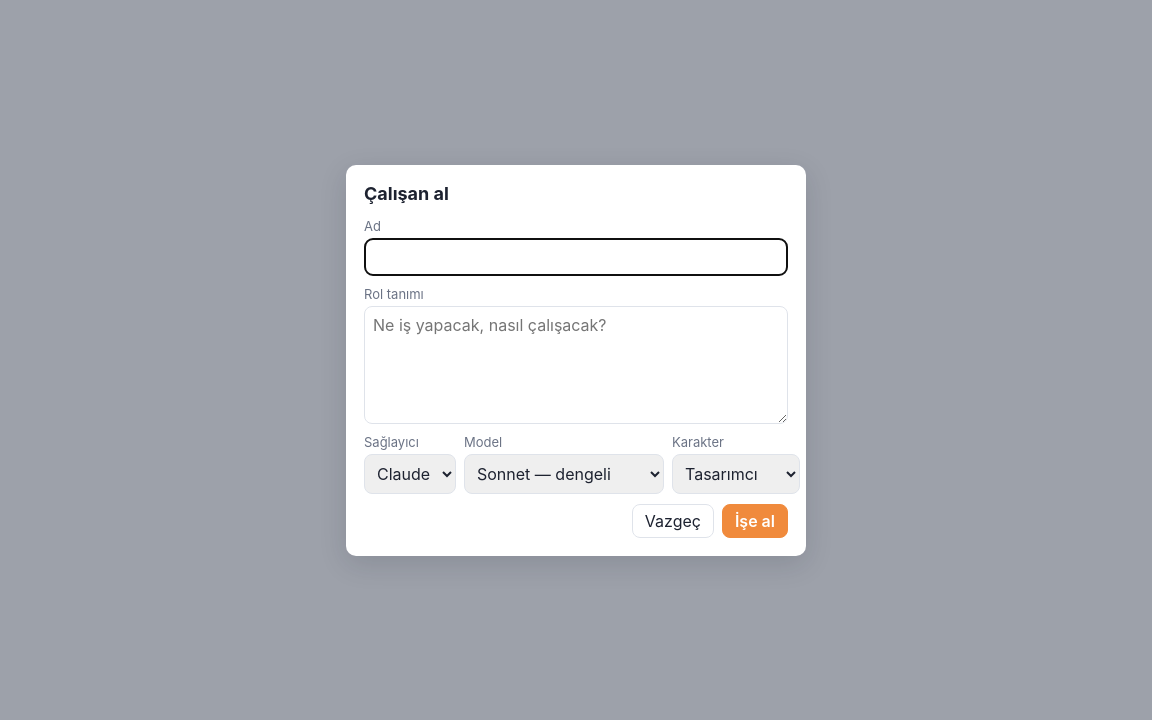
Scenario: HireDialog › keeps the dialog open and shows why when hiring fails
Step 1. Type "Ece" into the field labelled "Ad" → [576, 256], box [364,238,788,276]
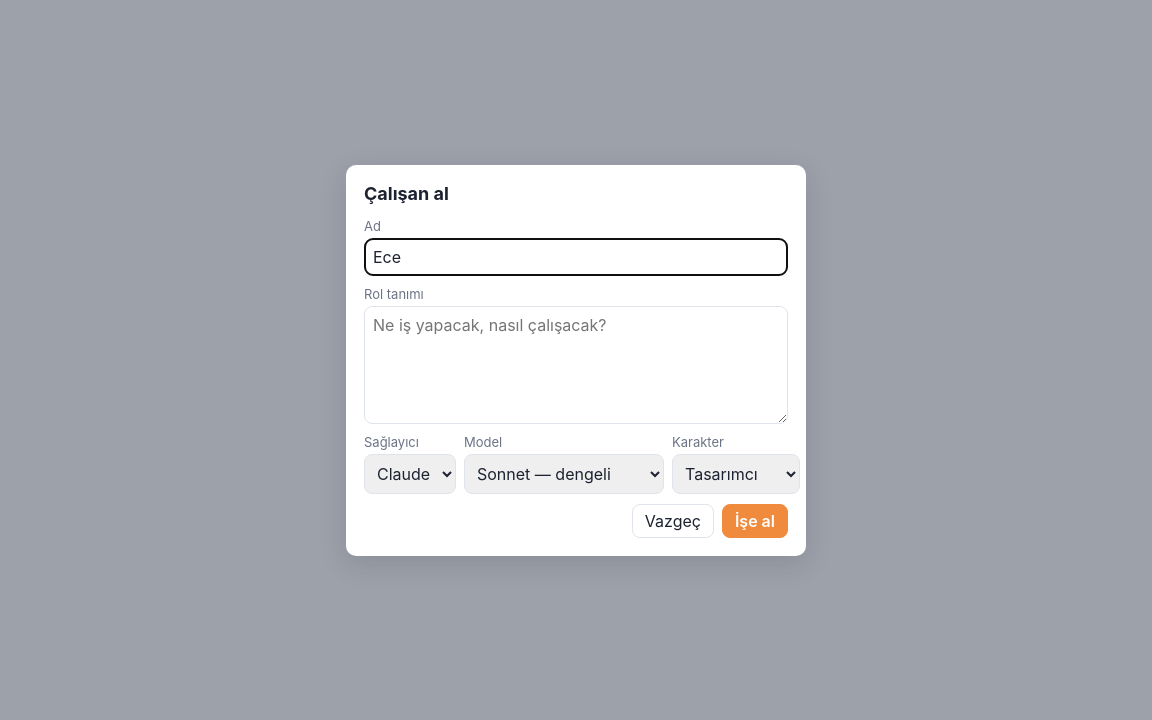
Step 2. Type "r" into the text box labelled "Rol tanımı" → [576, 364], box [364,306,788,424]
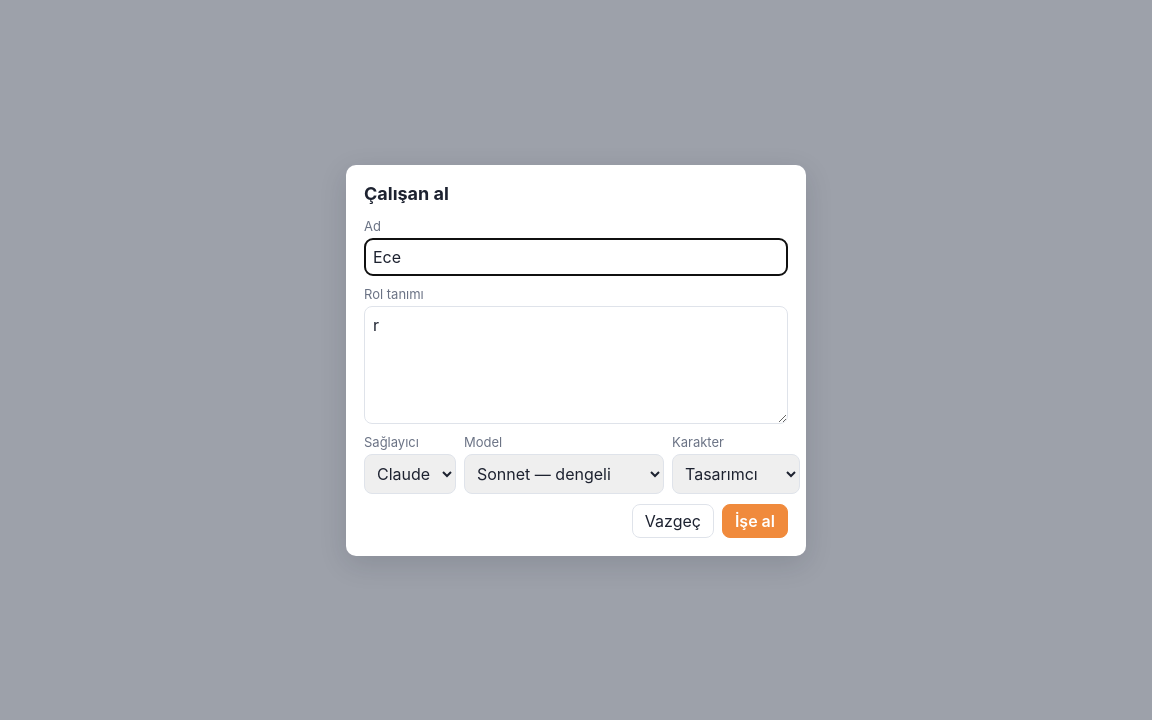
Step 3. Click the button "İşe al" → [755, 520], box [722,504,788,538]
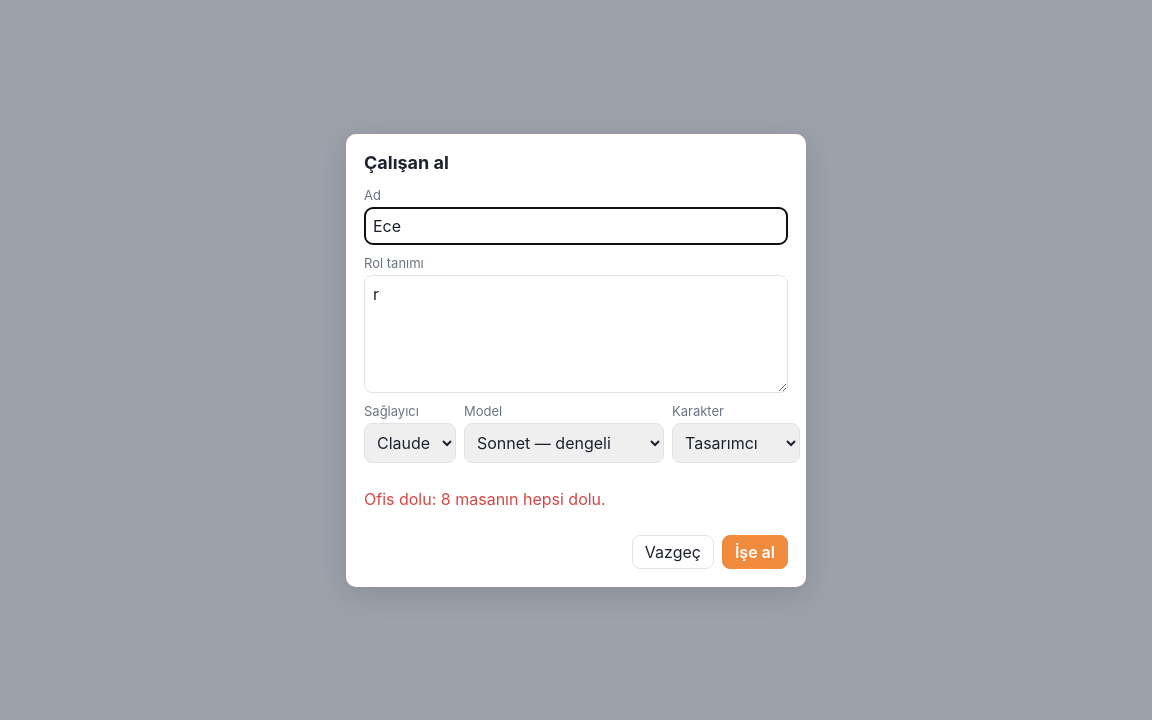
Check: the message reads "Ofis dolu: 8 masanın hepsi dolu.", box [364,488,606,508]
